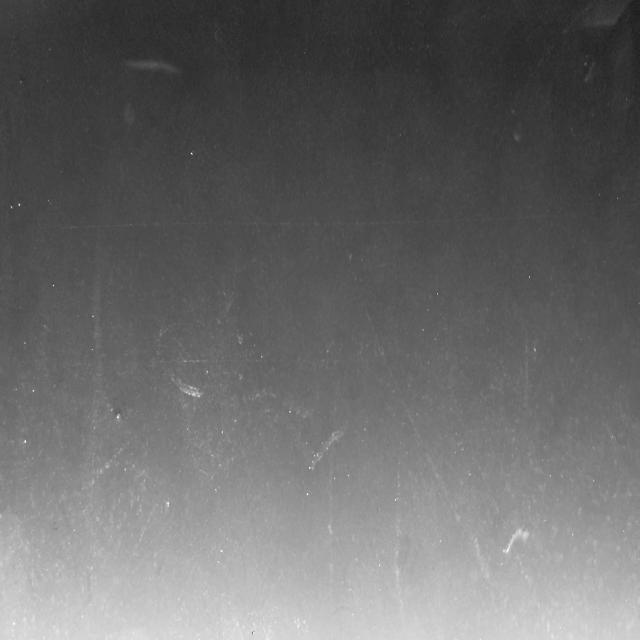beta: (346, 252, 501, 616), (470, 445, 555, 640), (155, 254, 259, 348), (517, 0, 596, 99), (63, 424, 147, 506), (393, 412, 409, 633), (124, 502, 160, 576), (88, 379, 105, 513), (519, 317, 533, 417)
